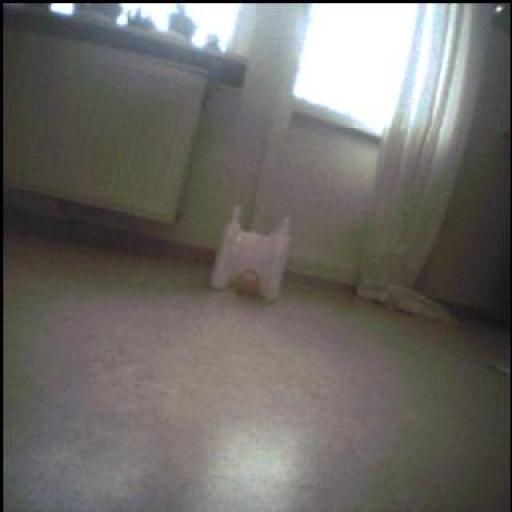Basket: (231, 267, 270, 305)
